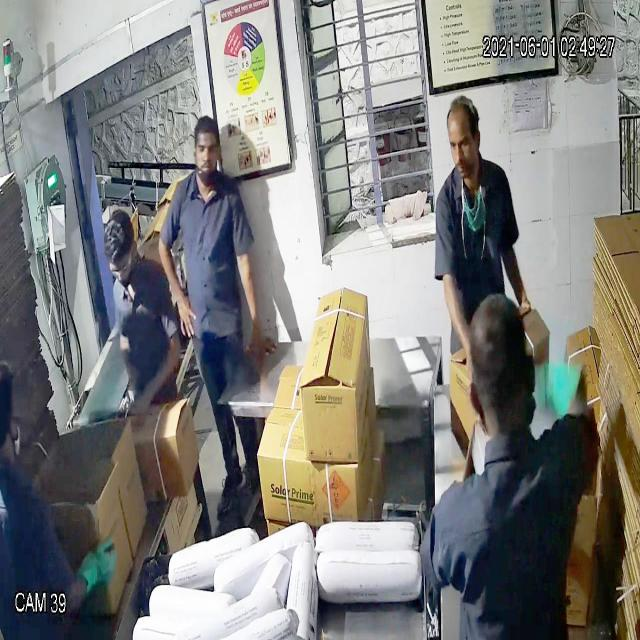glasses: (106, 247, 138, 284)
no-glass: (446, 126, 480, 161), (187, 139, 226, 169)
